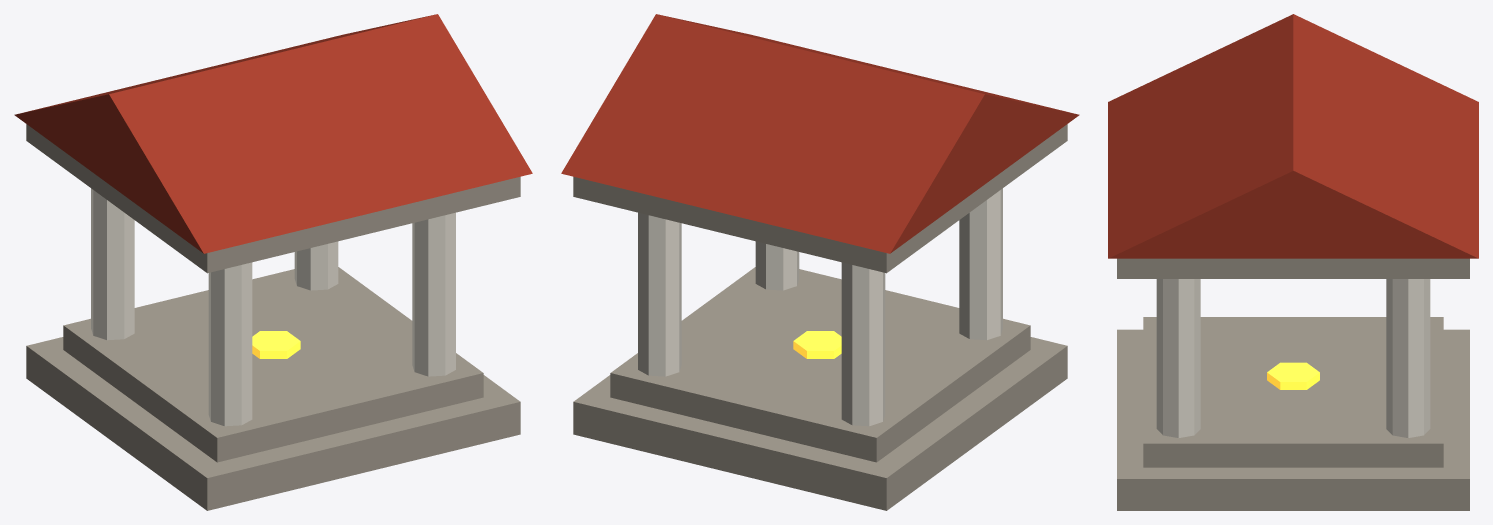
File: sky_floating_temple.glb
The picture shows the model from 3 angles, left to right: view 1: azimuth 30°, elevation 25°; view 2: azimuth 150°, elevation 25°; view 3: azimuth 270°, elevation 25°; orthographic projection. The views are drawn at different scales.
Parts seen in each view (by area): view 1: floating_temple; view 2: floating_temple; view 3: floating_temple.
Boxes of the visible parts, box(x1,y1,x2,y2) form: floating_temple: box(14, 14, 532, 510); floating_temple: box(561, 14, 1079, 510); floating_temple: box(1108, 14, 1478, 510).
Bounding box in the file's own units: 4.2 × 4.3 × 4.2.
